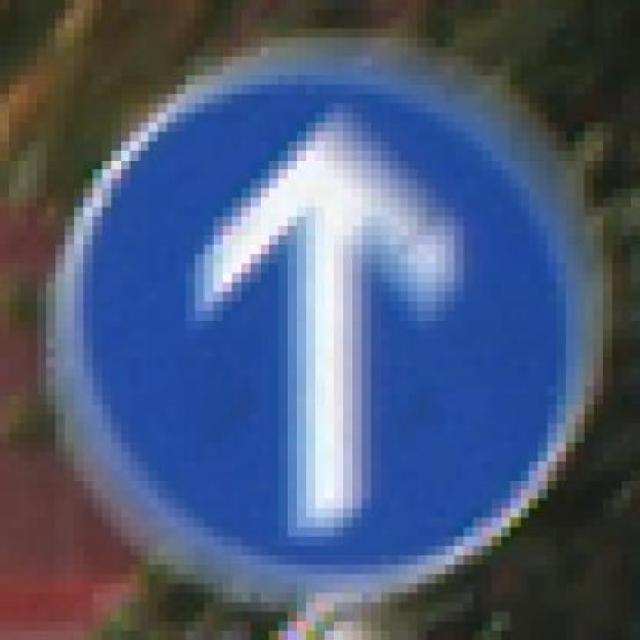Straight Ahead Only: (37, 29, 621, 602)
